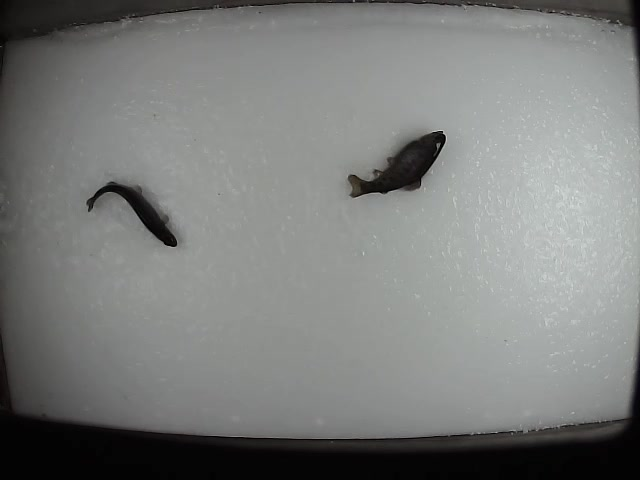Fish: (348, 131, 446, 197), (86, 181, 177, 247)
